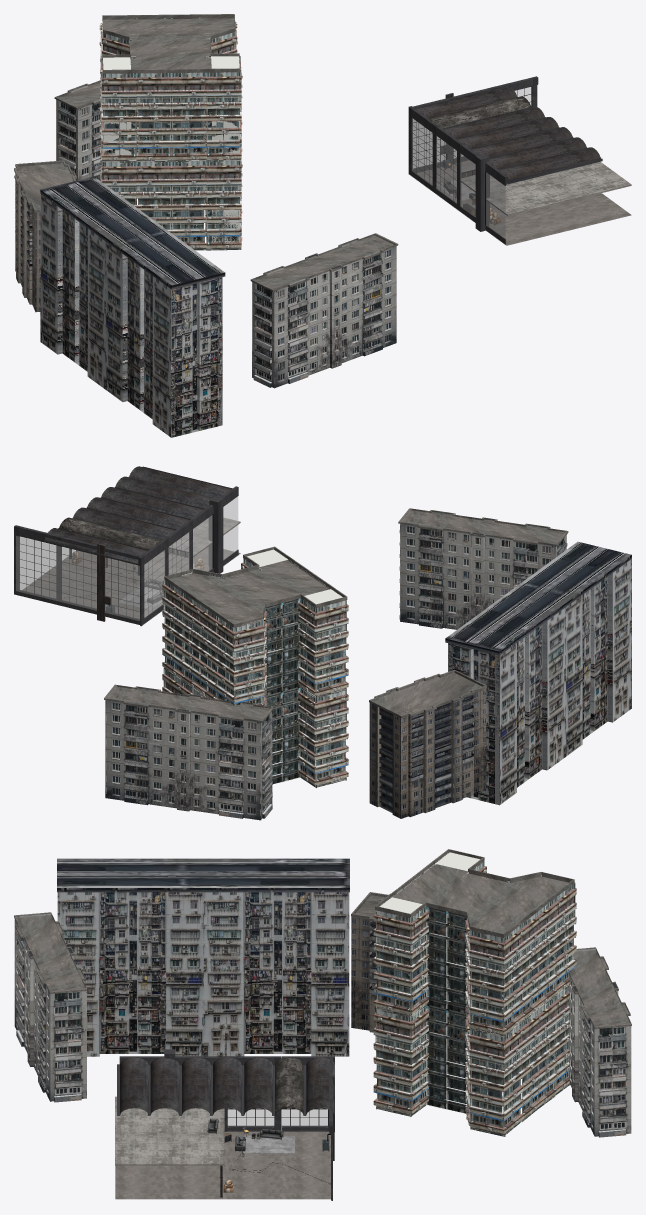
The model's file is candidate.roomkit.unknown-interior-3bc1.glb.
3 views of the same model, one above another, from view 1: azimuth 30°, elevation 25°; view 2: azimuth 150°, elevation 25°; view 3: azimuth 270°, elevation 25° (orthographic). The views are drawn at different scales.
Parts seen in each view (by area): view 1: object 26, object 24, Cube.022_56ef4e30bfca8ac25300c77d7c17d7bc_0, Cube.020_da2642e543a3f06231cecae91a2562d4_0, Cube.019_Material.028_0, Plane_Material.001_0, Plane.004_Material.029_0, Cube.010_Material.006_0, Cube.009_56ef4e30bfca8ac25300c77d7c17d7bc_0, Cube.022_Material.028_0, Cube.021_da2642e543a3f06231cecae91a2562d4_0, Cube_Material.002_0 (+11 smaller); view 2: object 24, object 26, Cube.009_56ef4e30bfca8ac25300c77d7c17d7bc_0, Cube.021_da2642e543a3f06231cecae91a2562d4_0, Cube.022_56ef4e30bfca8ac25300c77d7c17d7bc_0, Plane.004_Material.029_0, Cube.020_da2642e543a3f06231cecae91a2562d4_0, Cube.019_Material.028_0, Plane_Material.001_0, Cube.021_Material.028_0, Cube.022_Material.028_0, Cube.009_Material.028_0 (+14 smaller); view 3: object 26, object 24, Cube.020_da2642e543a3f06231cecae91a2562d4_0, Plane_Material.001_0, Cube.022_56ef4e30bfca8ac25300c77d7c17d7bc_0, Cube.019_Material.028_0, Cube.009_56ef4e30bfca8ac25300c77d7c17d7bc_0, Cube.010_Material.006_0, Cube.022_Material.028_0, Cube.009_Material.028_0, Cube.021_da2642e543a3f06231cecae91a2562d4_0, Cube_Material.002_0 (+10 smaller).
Part boxes in pixels (<box>): object 26: <box>40,194,222,437</box>; object 24: <box>99,17,242,250</box>; Cube.022_56ef4e30bfca8ac25300c77d7c17d7bc_0: <box>252,234,396,388</box>; Cube.020_da2642e543a3f06231cecae91a2562d4_0: <box>40,176,225,289</box>; Cube.019_Material.028_0: <box>102,14,240,73</box>; Plane_Material.001_0: <box>410,160,631,245</box>; Plane.004_Material.029_0: <box>412,87,531,238</box>; Cube.010_Material.006_0: <box>460,161,631,215</box>; Cube.009_56ef4e30bfca8ac25300c77d7c17d7bc_0: <box>56,85,100,180</box>; Cube.022_Material.028_0: <box>250,233,398,291</box>; Cube.021_da2642e543a3f06231cecae91a2562d4_0: <box>15,174,75,312</box>; Cube_Material.002_0: <box>408,106,507,244</box>; object 24: <box>162,549,348,787</box>; object 26: <box>448,559,631,805</box>; Cube.009_56ef4e30bfca8ac25300c77d7c17d7bc_0: <box>105,685,272,820</box>; Cube.021_da2642e543a3f06231cecae91a2562d4_0: <box>369,688,486,818</box>; Cube.022_56ef4e30bfca8ac25300c77d7c17d7bc_0: <box>399,509,567,629</box>; Plane.004_Material.029_0: <box>16,496,238,620</box>; Cube.020_da2642e543a3f06231cecae91a2562d4_0: <box>445,541,631,655</box>; Cube.019_Material.028_0: <box>164,546,347,627</box>; Plane_Material.001_0: <box>22,547,240,624</box>; Cube.021_Material.028_0: <box>369,669,486,718</box>; Cube.022_Material.028_0: <box>398,508,568,546</box>; Cube.009_Material.028_0: <box>104,684,273,722</box>; object 26: <box>57,892,349,1056</box>; object 24: <box>373,852,576,1136</box>; Cube.020_da2642e543a3f06231cecae91a2562d4_0: <box>57,858,349,892</box>; Plane_Material.001_0: <box>115,1131,330,1199</box>; Cube.022_56ef4e30bfca8ac25300c77d7c17d7bc_0: <box>14,913,86,1102</box>; Cube.019_Material.028_0: <box>375,849,574,937</box>; Cube.009_56ef4e30bfca8ac25300c77d7c17d7bc_0: <box>568,948,631,1137</box>; Cube.010_Material.006_0: <box>115,1096,224,1165</box>; Cube.022_Material.028_0: <box>14,912,87,993</box>; Cube.009_Material.028_0: <box>568,947,631,1029</box>; Cube.021_da2642e543a3f06231cecae91a2562d4_0: <box>351,916,376,1032</box>; Cube_Material.002_0: <box>119,1056,334,1131</box>.
Size of the model in its own units: 26.27 by 10.95 by 25.75.
24 materials, 21 textured.
